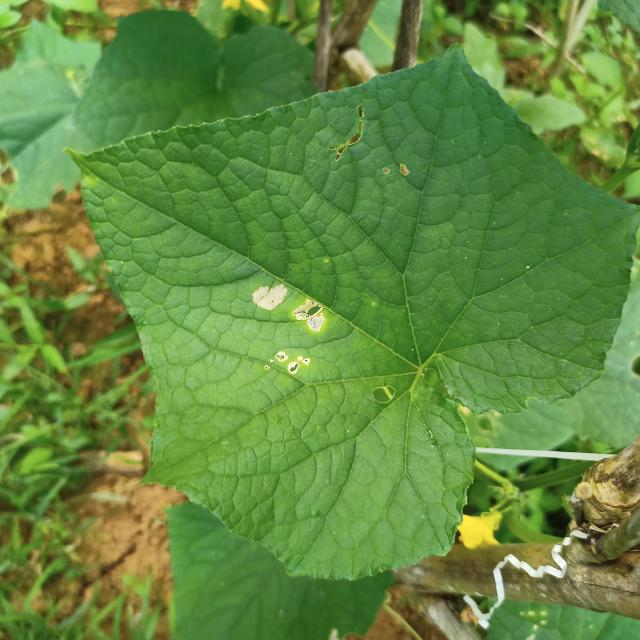disease_cucumber: (249, 279, 328, 388)
